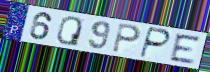6: (29, 11, 53, 42)
9: (87, 19, 113, 51)
E: (169, 32, 202, 65)
P: (138, 26, 172, 60), (110, 22, 143, 55)
Q: (56, 15, 84, 48)
